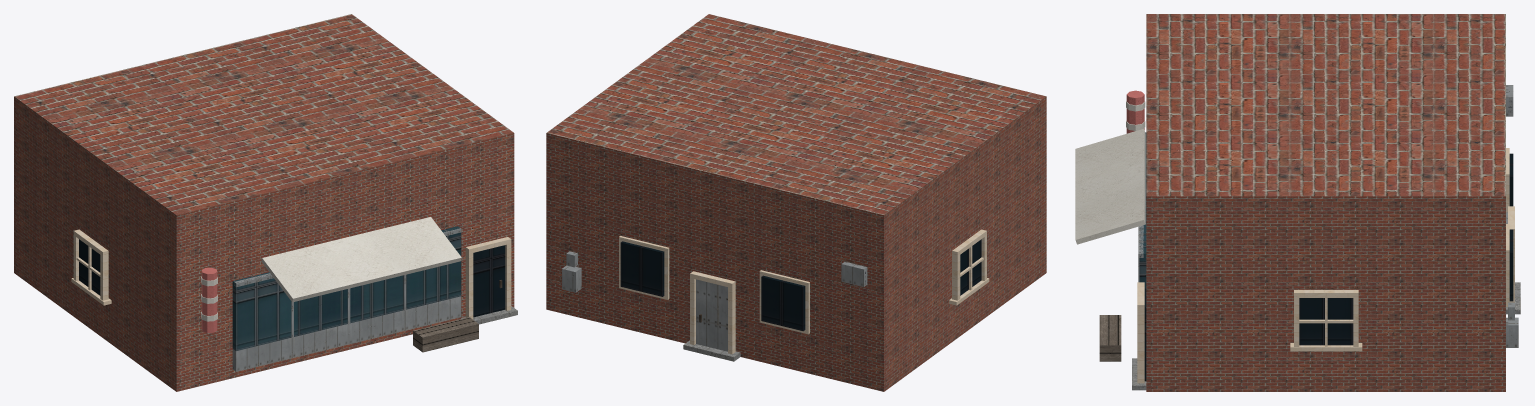
File: barber-shop_lod0.gltf
3 renders of one model, left to right at view 1: azimuth 30°, elevation 25°; view 2: azimuth 150°, elevation 25°; view 3: azimuth 270°, elevation 25°, orthographic. The views are drawn at different scales.
Parts seen in each view (by area): view 1: barber-shop_main, barber-shop_fen_07-glass-curtain-blue_1, barber-shop__awning, barber-shop_fen_14-steel-panel_0, barber-shop_fen_04-limestone_2, barber-shop_fen_07-glass-curtain-blue_3_t, barber-shop__bench, barber-shop__barber_pole; view 2: barber-shop_main, barber-shop_fen_07-glass-curtain-blue_3_t, barber-shop_fen_04-limestone_2, barber-shop_fen_14-steel-panel_0, barber-shop_fen_06-granite_5; view 3: barber-shop_main, barber-shop__awning, barber-shop_fen_04-limestone_2, barber-shop_fen_07-glass-curtain-blue_3_t, barber-shop__bench, barber-shop_fen_14-steel-panel_0, barber-shop_fen_07-glass-curtain-blue_1, barber-shop__barber_pole, barber-shop_fen_06-granite_5.
Part boxes in pixels (x1,y1,x2,y2): barber-shop_main: [14, 14, 514, 391]; barber-shop_fen_07-glass-curtain-blue_1: [232, 226, 461, 350]; barber-shop__awning: [261, 217, 461, 302]; barber-shop_fen_14-steel-panel_0: [232, 228, 461, 371]; barber-shop_fen_04-limestone_2: [71, 229, 511, 319]; barber-shop_fen_07-glass-curtain-blue_3_t: [79, 239, 505, 317]; barber-shop__bench: [413, 317, 478, 352]; barber-shop__barber_pole: [201, 267, 217, 332]; barber-shop_main: [546, 14, 1046, 391]; barber-shop_fen_07-glass-curtain-blue_3_t: [620, 239, 981, 331]; barber-shop_fen_04-limestone_2: [619, 229, 989, 354]; barber-shop_fen_14-steel-panel_0: [562, 251, 867, 351]; barber-shop_fen_06-granite_5: [683, 340, 740, 361]; barber-shop_main: [1146, 14, 1505, 391]; barber-shop__awning: [1075, 128, 1145, 244]; barber-shop_fen_04-limestone_2: [1137, 148, 1514, 383]; barber-shop_fen_07-glass-curtain-blue_3_t: [1144, 153, 1513, 381]; barber-shop__bench: [1099, 315, 1121, 361]; barber-shop_fen_14-steel-panel_0: [1138, 85, 1518, 347]; barber-shop_fen_07-glass-curtain-blue_1: [1139, 132, 1146, 288]; barber-shop__barber_pole: [1126, 90, 1144, 133]; barber-shop_fen_06-granite_5: [1132, 282, 1520, 390].
Size of the model in its own units: 12.55 by 6 by 12.37.
